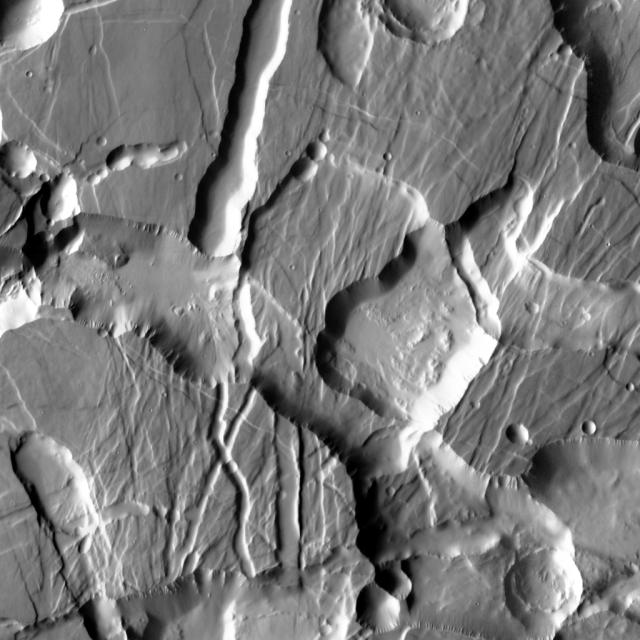crater: (511, 549, 591, 629), (512, 422, 535, 444), (171, 508, 186, 524), (532, 304, 544, 317), (588, 421, 600, 434), (325, 625, 338, 637), (232, 459, 244, 472), (391, 486, 401, 496), (282, 490, 292, 500), (390, 154, 398, 162), (631, 385, 639, 393), (478, 400, 486, 408), (556, 54, 564, 62), (25, 64, 31, 70), (568, 136, 574, 142)
